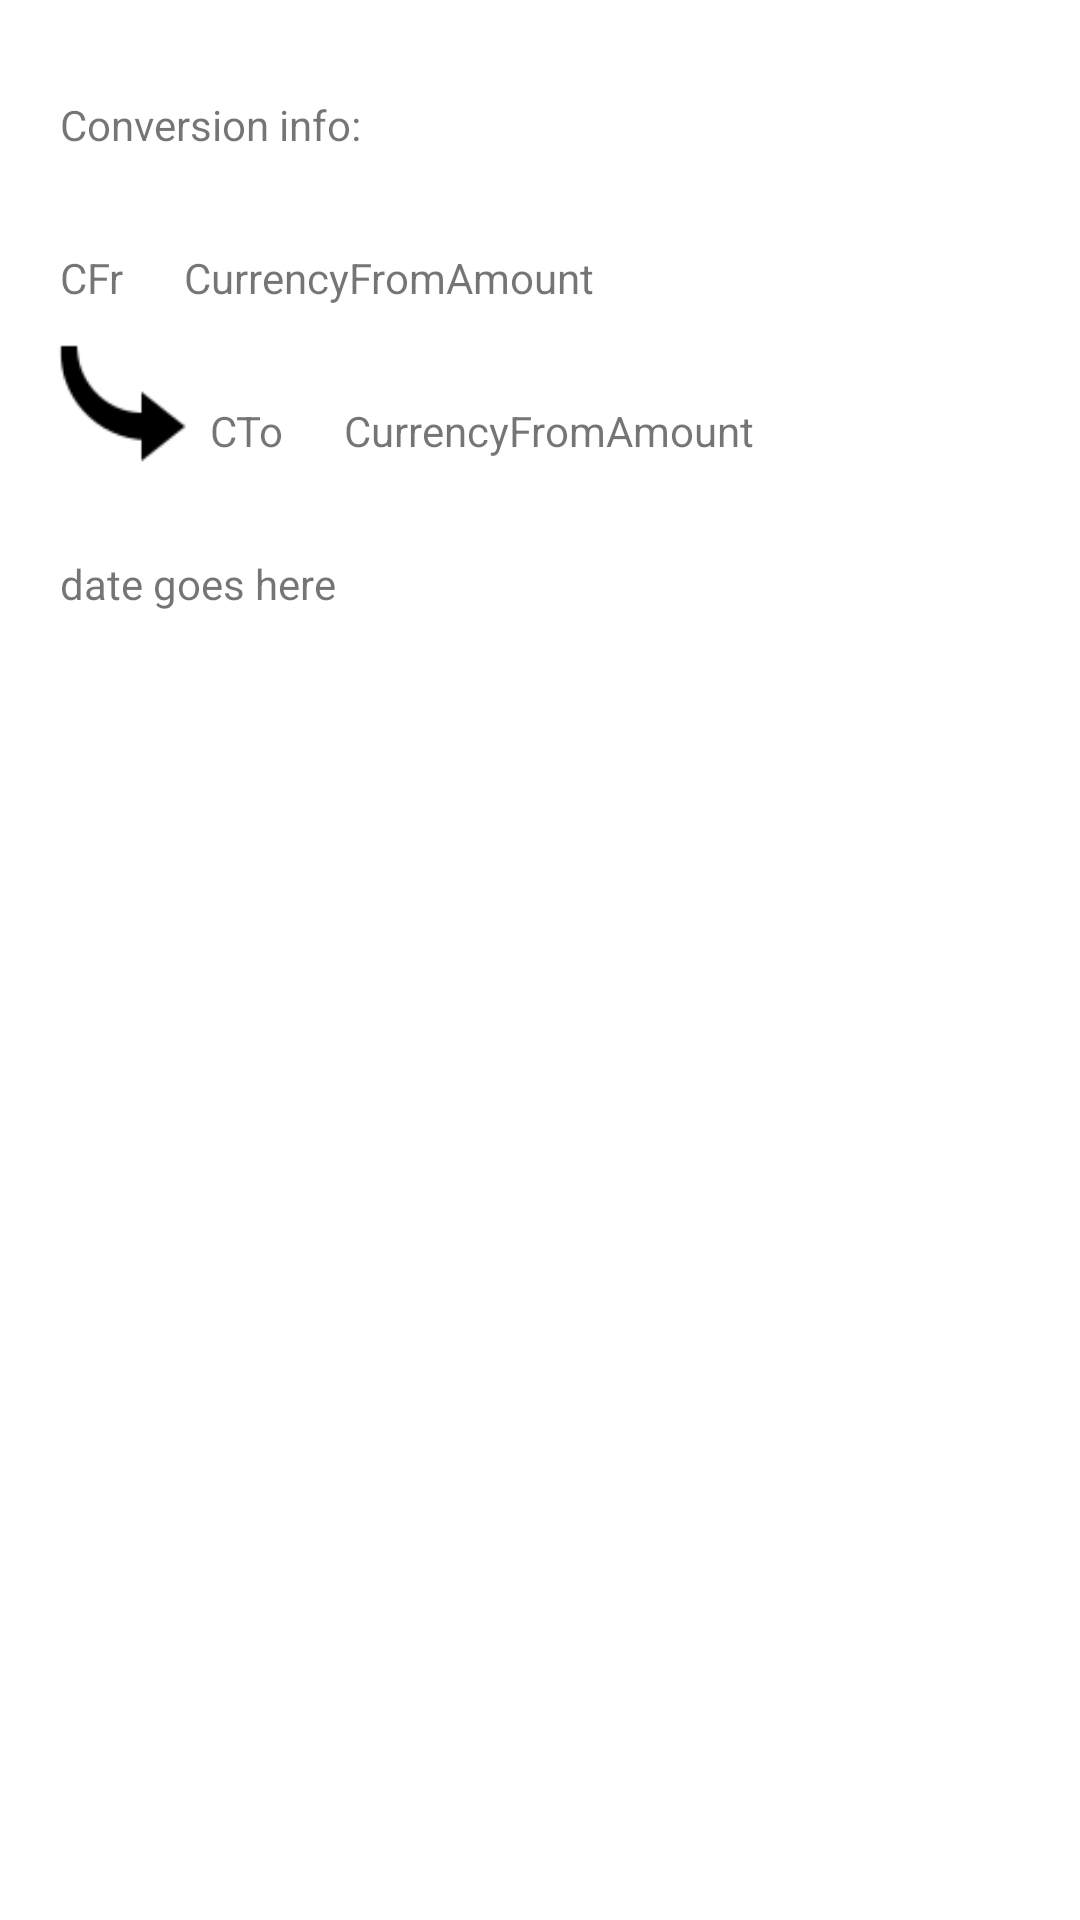

Named icons in this screenshot (1080px x 1920px) and their bounding boxes, (x1, y1, x2, y2):
currencyarrow: (60, 345, 186, 462)
